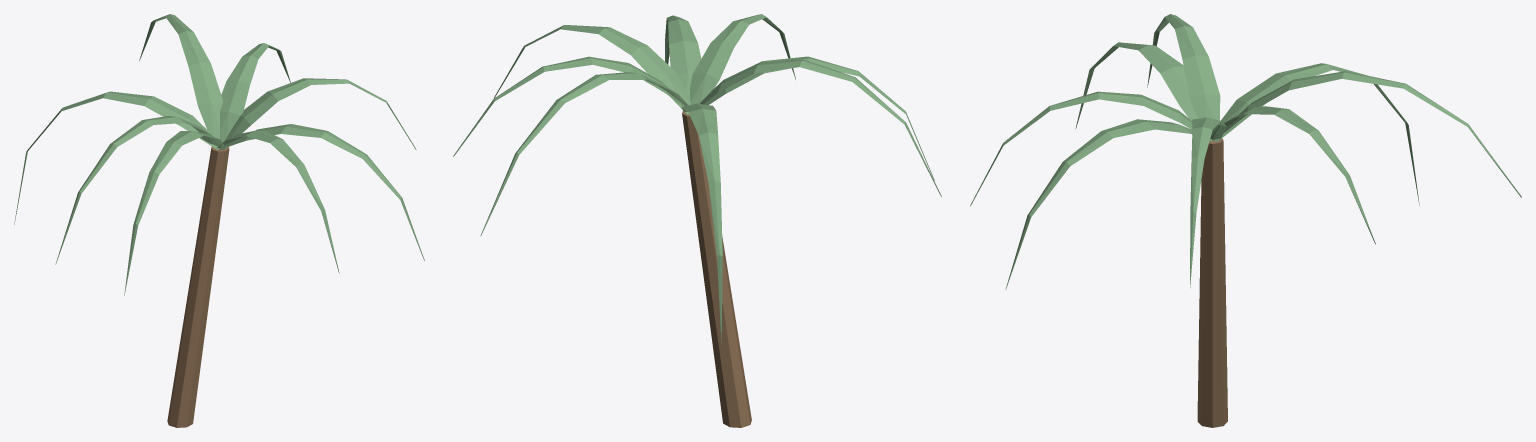
File: desert_palm.obj
The picture shows the model from 3 angles, left to right: view 1: azimuth 30°, elevation 25°; view 2: azimuth 150°, elevation 25°; view 3: azimuth 270°, elevation 25°; orthographic projection. The views are drawn at different scales.
Parts seen in each view (by area): view 1: DesertTree; view 2: DesertTree; view 3: DesertTree.
Part boxes in pixels (left/top/right/bottom): DesertTree: left=14, top=14, right=424, bottom=427; DesertTree: left=453, top=14, right=941, bottom=427; DesertTree: left=970, top=14, right=1521, bottom=427.
Size of the model in its own units: 1.65 by 1.39 by 1.81.
